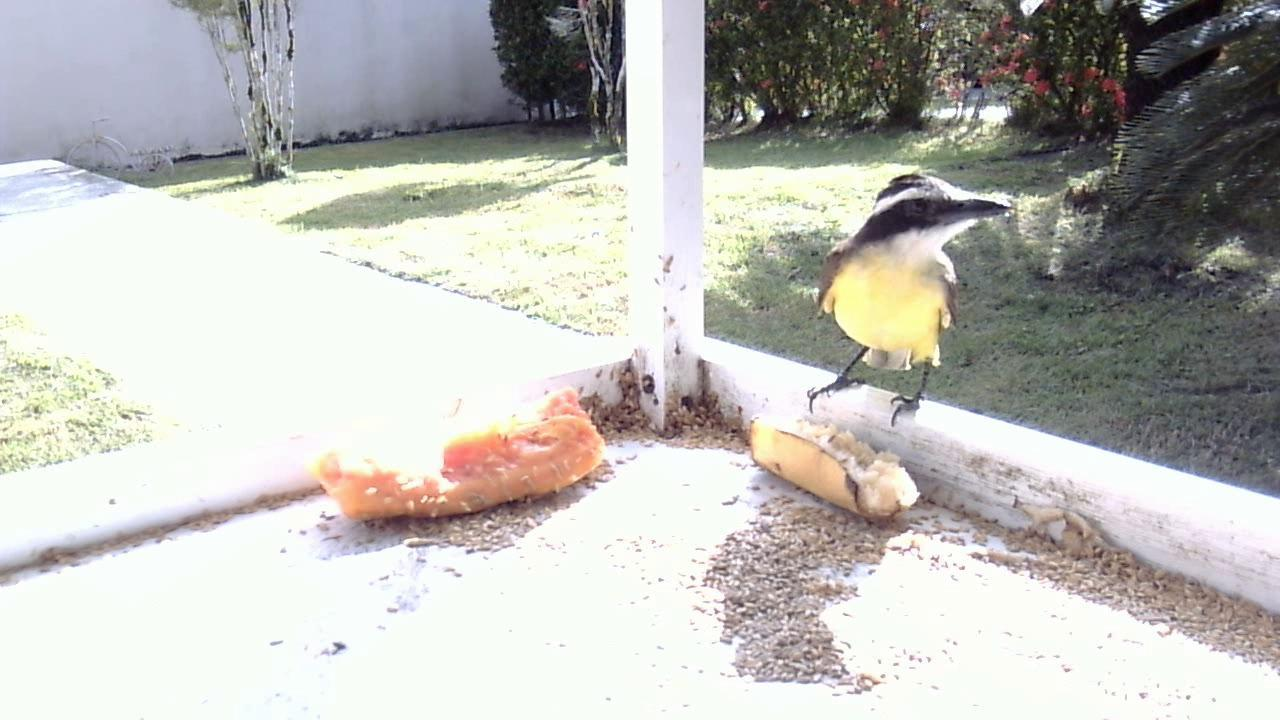bem_te_vi: (797, 170, 1010, 441)
